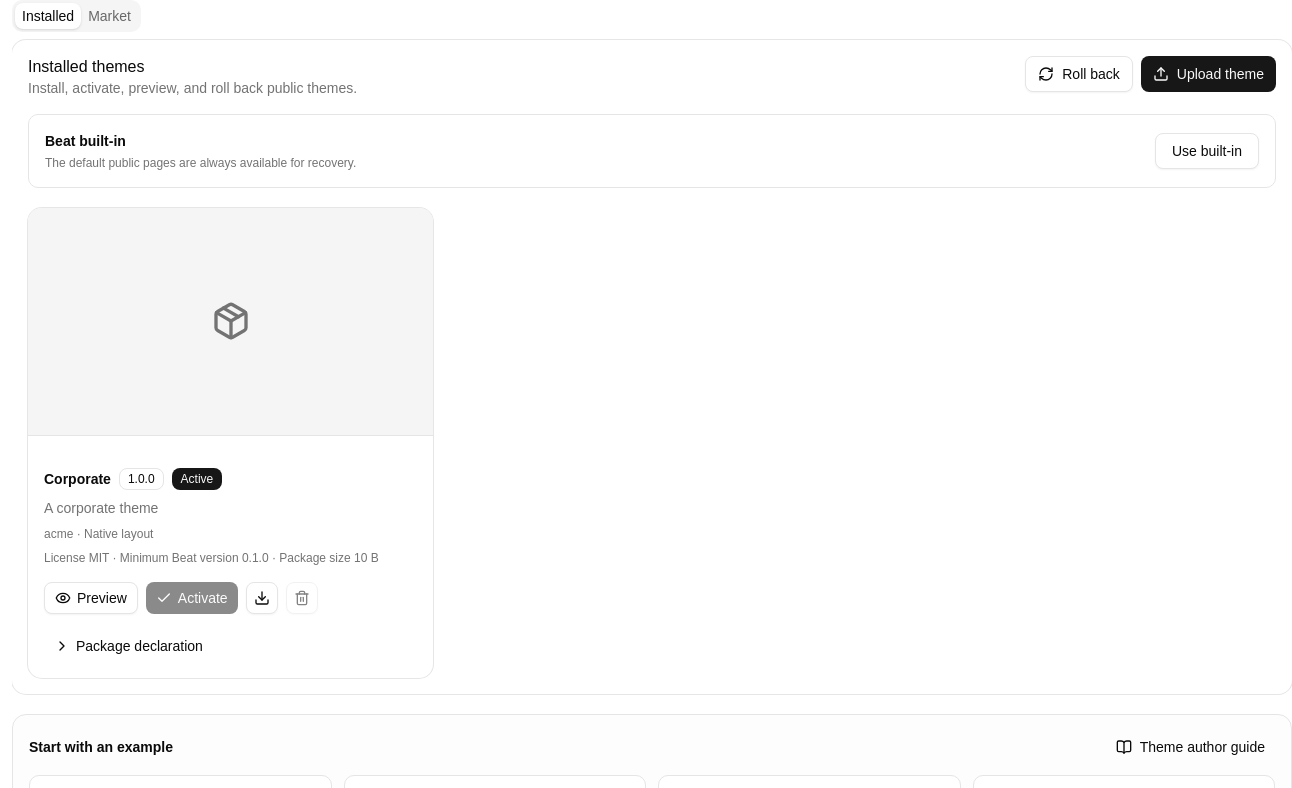
Test: themes panel installed view › shows the declared site-configurable fields in the package declaration
Click the button with aria-label "Package declaration · Corporate" at (128, 646), box x1=44 y1=630 x2=213 y2=662
(page scrolled)
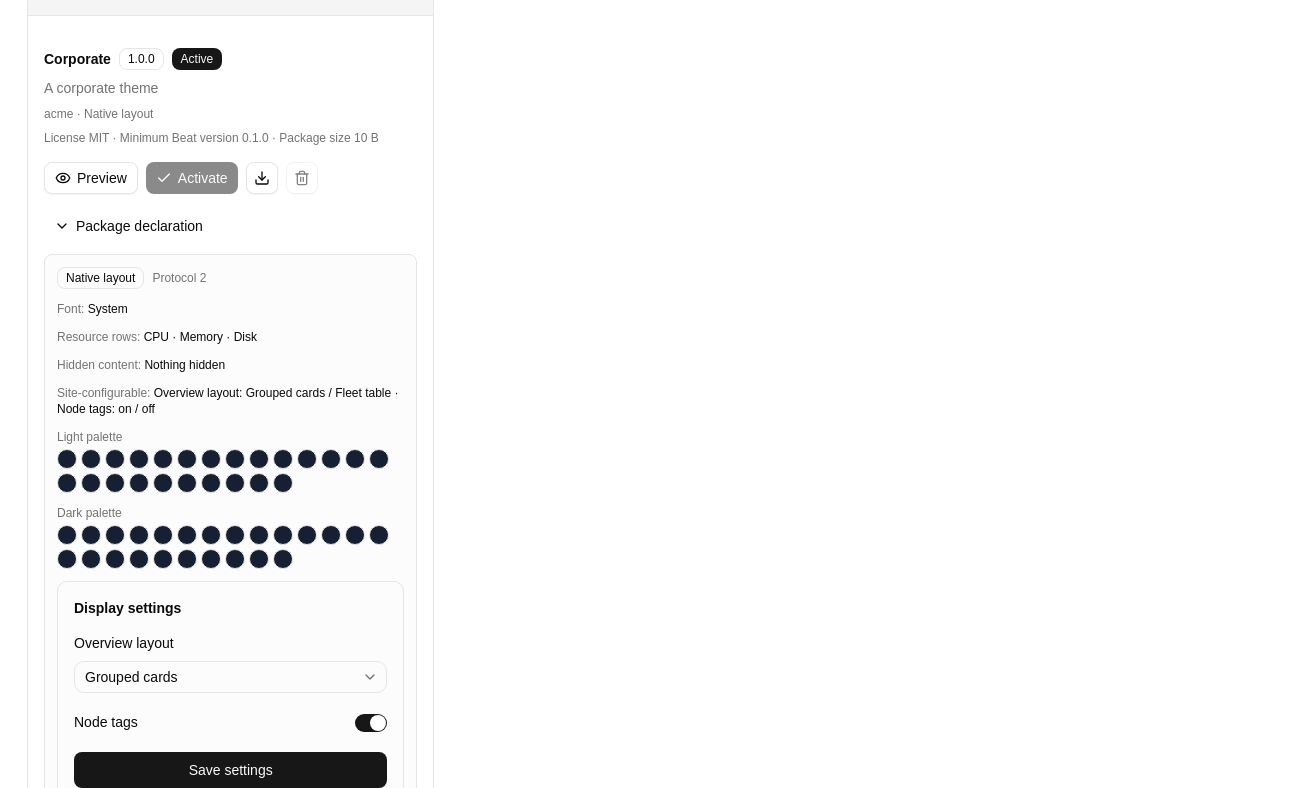
Now the text "Site-configurable:" is shown, box x1=57 y1=386 x2=154 y2=400
Now the text "Overview layout: Grouped cards / Fleet table · Node tags: on / off" is shown, box x1=57 y1=386 x2=398 y2=416
